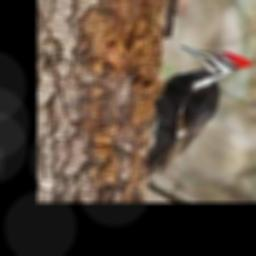Woodpecker: (146, 46, 251, 176)
